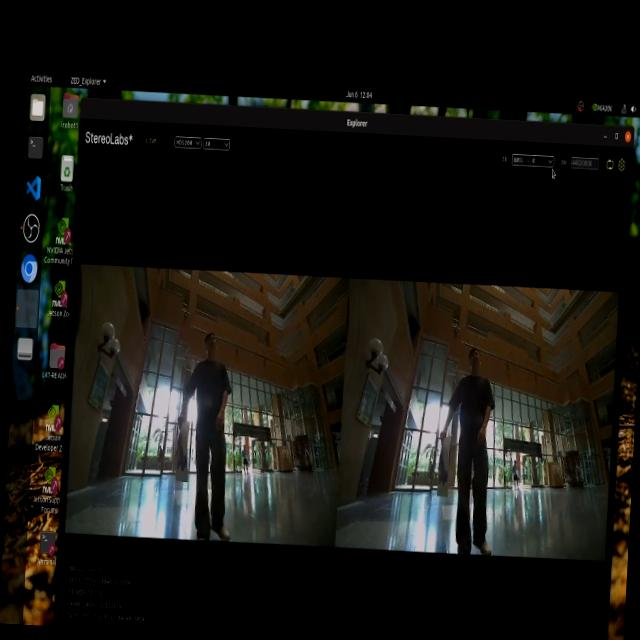blue: (434, 444, 454, 502), (170, 430, 188, 480)
